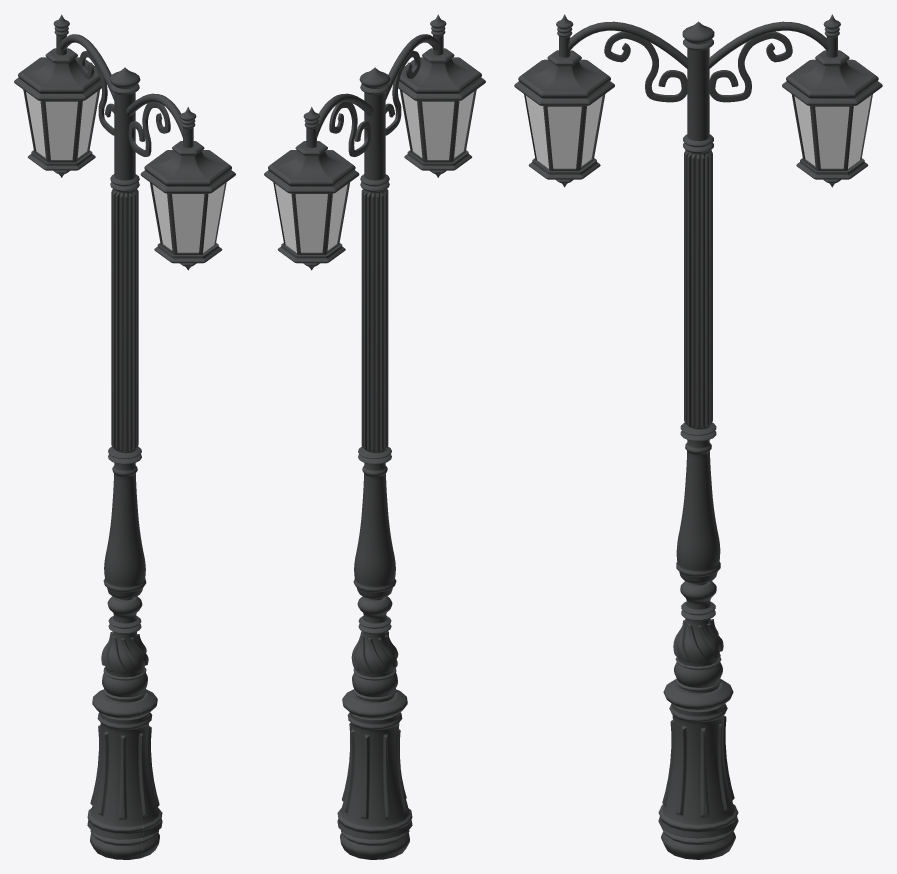
File: luminaria2.obj
3 renders of one model, left to right at view 1: azimuth 30°, elevation 25°; view 2: azimuth 150°, elevation 25°; view 3: azimuth 270°, elevation 25°, orthographic. The views are drawn at different scales.
Parts seen in each view (by area): view 1: base2luces, luces2; view 2: base2luces, luces2; view 3: base2luces, luces2.
Part boxes in pixels (x1,y1,x2,y2): base2luces: (14,14,235,859); luces2: (26,91,224,252); base2luces: (264,14,485,859); luces2: (275,91,473,252); base2luces: (514,14,882,859); luces2: (526,95,870,168).
Size of the model in its own units: 1.64 by 17.11 by 6.87.
Materials: 2 (2 with a texture image).
